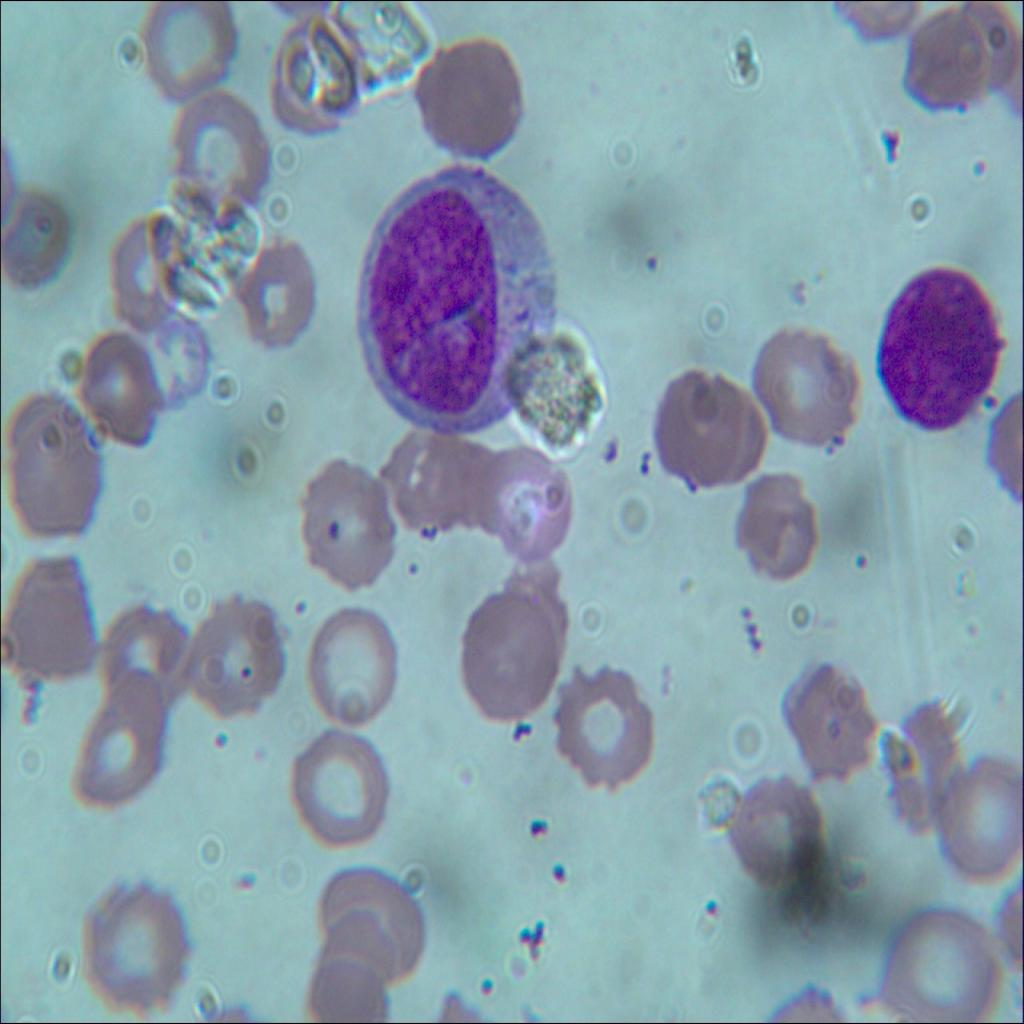Eritrosit: (78, 865, 196, 1023), (311, 847, 434, 984), (452, 571, 558, 724), (404, 32, 526, 159), (0, 378, 98, 536), (754, 315, 862, 452), (780, 663, 890, 797), (548, 661, 656, 795), (215, 234, 331, 358), (878, 690, 970, 844), (708, 772, 830, 888), (154, 103, 268, 224), (293, 455, 395, 588), (886, 904, 999, 1023), (6, 554, 102, 690), (650, 368, 764, 481), (183, 591, 286, 715), (288, 731, 394, 850), (301, 604, 403, 719), (392, 418, 490, 532), (895, 10, 1004, 108), (88, 607, 194, 707), (731, 462, 818, 583), (115, 204, 194, 335), (474, 440, 566, 552), (84, 685, 170, 801), (78, 332, 159, 454), (264, 14, 350, 127), (306, 902, 400, 996), (941, 764, 1023, 870), (139, 0, 236, 87), (288, 957, 398, 1023), (0, 186, 63, 294), (630, 447, 662, 479), (596, 434, 619, 462)
Limfoblast: (354, 161, 559, 441)
Limfosit: (875, 272, 1001, 435)
Platelet: (548, 847, 584, 908), (471, 955, 508, 1010), (229, 855, 258, 912), (846, 541, 878, 581), (321, 512, 348, 555), (638, 238, 664, 281), (526, 804, 554, 841), (208, 721, 238, 755), (706, 885, 730, 927), (403, 557, 428, 588), (235, 655, 255, 688), (736, 598, 755, 628)
